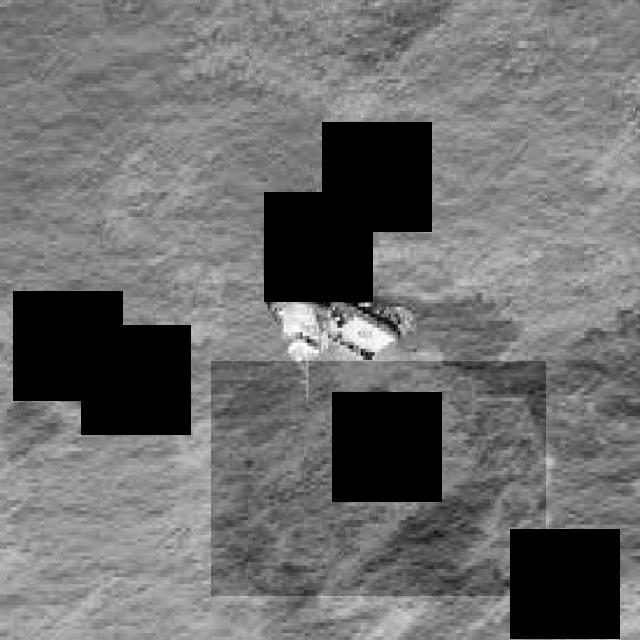oil spill: (324, 2, 640, 359), (212, 362, 546, 596)
